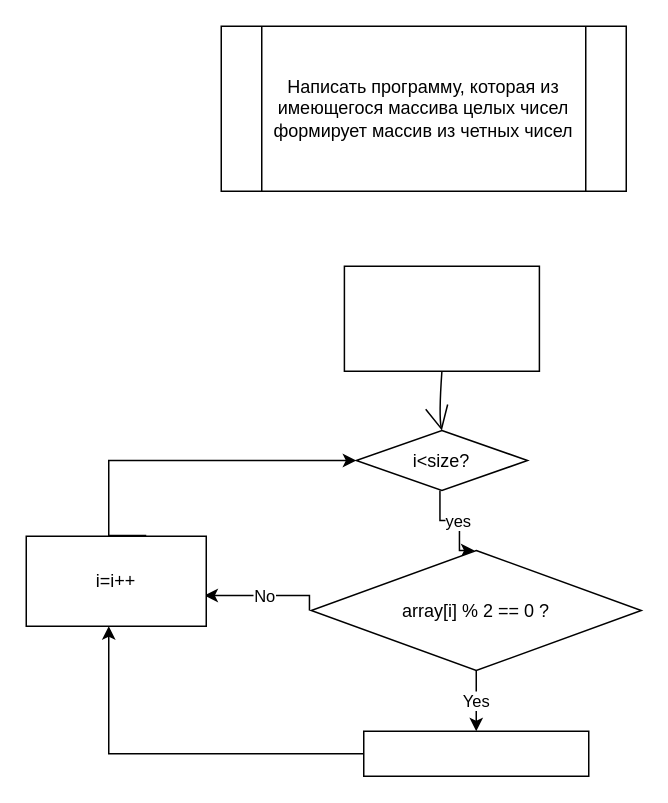
This 668x803 diagram has some shape labels left out. The centre of each missing label's shape, as x and y in pixels:
"array[] evenElArray [] size; i=0" belongs at point (441, 318).
"evenElArray [k] = array[i] k++" belongs at point (475, 753).
